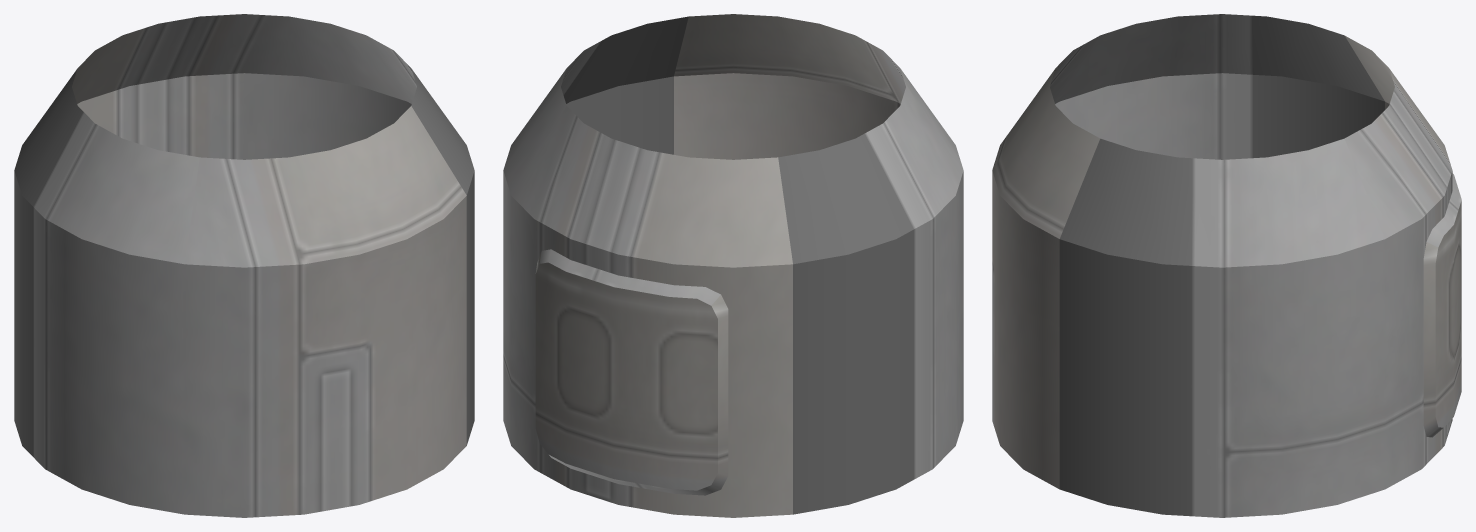
Rendered from vega_crew_s1_2_1.obj.
3 views of the same model, side by side, from view 1: azimuth 30°, elevation 25°; view 2: azimuth 150°, elevation 25°; view 3: azimuth 270°, elevation 25° (orthographic).
Visible parts, largest first — view 1: mesh1; view 2: mesh1; view 3: mesh1.
Part boxes in pixels (left/top/right/bottom): mesh1: left=14, top=14, right=474, bottom=517; mesh1: left=503, top=14, right=963, bottom=517; mesh1: left=992, top=14, right=1461, bottom=517.
Size of the model in its own units: 1.25 by 1 by 1.27.
